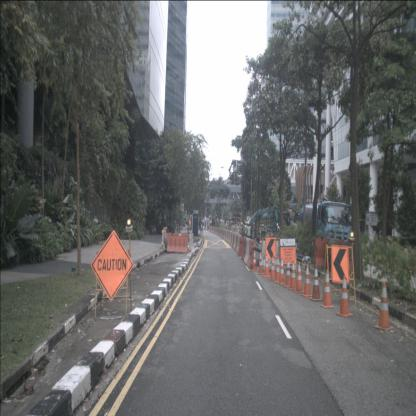barrier: (167, 232, 189, 253), (246, 238, 257, 270), (244, 237, 252, 265), (241, 236, 247, 260), (237, 233, 243, 256), (160, 230, 166, 248), (189, 232, 194, 250), (236, 233, 240, 255), (234, 232, 238, 252), (233, 232, 237, 251), (231, 232, 235, 248), (231, 230, 234, 247)
cone: (375, 281, 394, 331), (336, 275, 353, 318), (320, 269, 334, 308), (310, 264, 322, 301), (302, 263, 313, 297), (294, 261, 304, 293), (288, 261, 298, 291), (284, 258, 294, 287), (269, 254, 278, 280), (278, 258, 286, 286), (274, 255, 282, 283), (262, 254, 271, 278), (257, 252, 265, 274), (251, 250, 259, 271)
